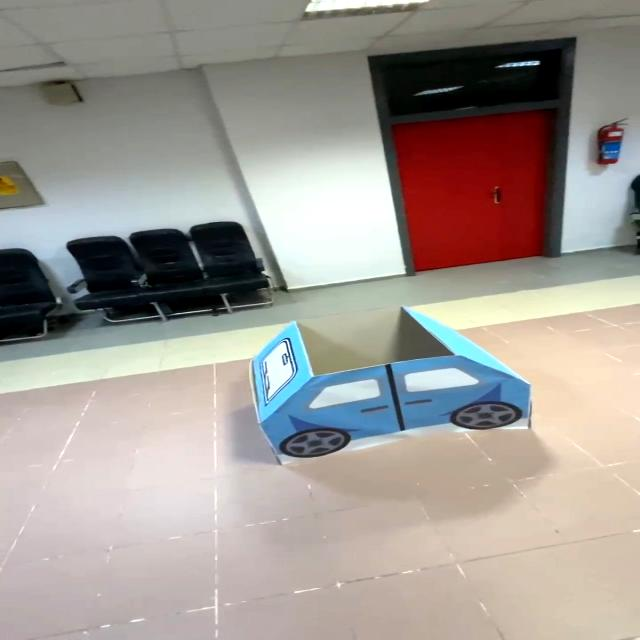blue_car: (212, 303, 562, 471)
